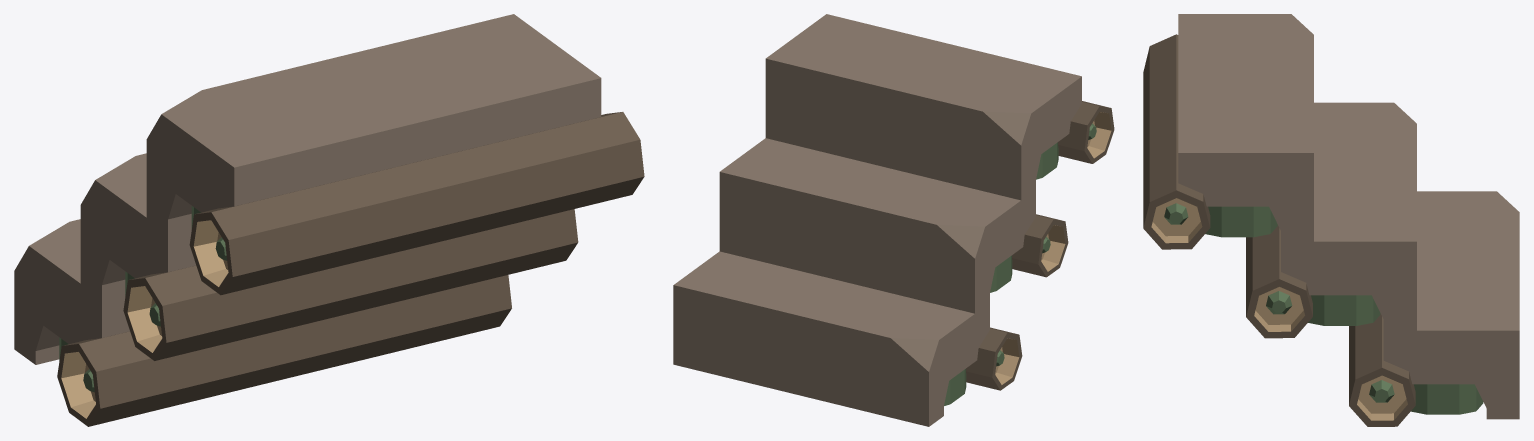
File: _STAIRS_1.fbx
3 renders of one model, left to right at view 1: azimuth 30°, elevation 25°; view 2: azimuth 150°, elevation 25°; view 3: azimuth 270°, elevation 25°, orthographic. The views are drawn at different scales.
Visible parts, largest first — view 1: STAIRS_1; view 2: STAIRS_1; view 3: STAIRS_1.
Boxes of the visible parts, x1,y1,x2,y2 form: STAIRS_1: (14,14,644,426); STAIRS_1: (673,14,1114,426); STAIRS_1: (1143,14,1519,426).
Bounding box in the file's own units: 112 × 89.4 × 115.
